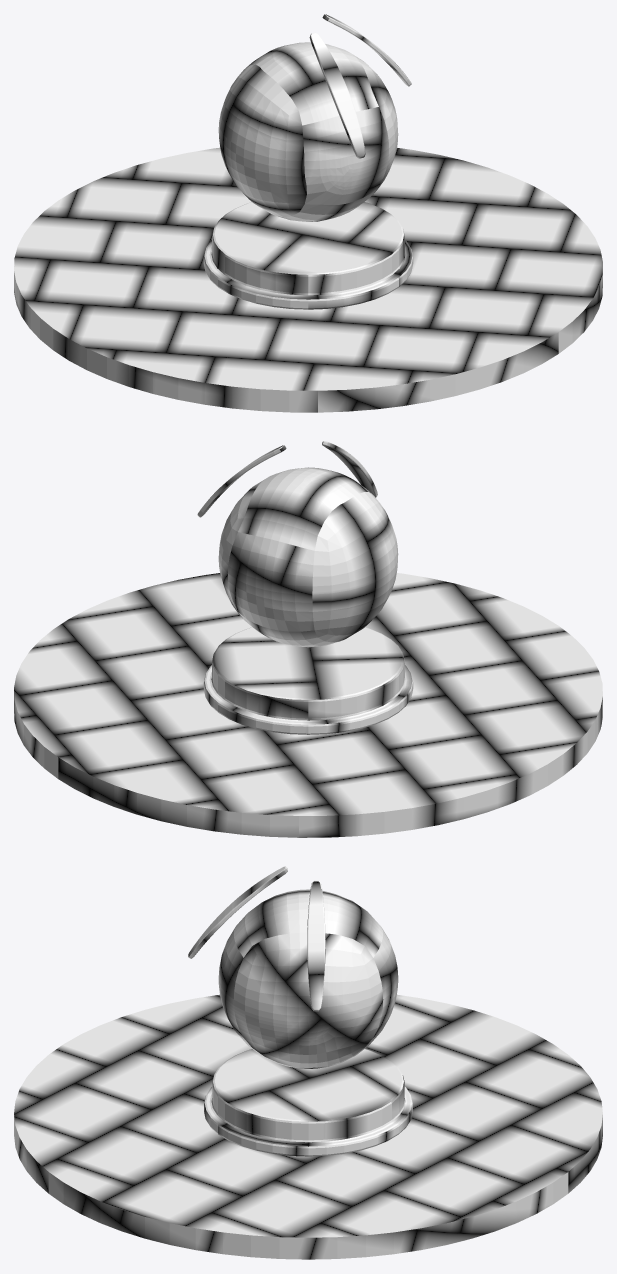
The model's file is neutral_objects.obj.
3 views of the same model, one above another, from view 1: azimuth 30°, elevation 25°; view 2: azimuth 150°, elevation 25°; view 3: azimuth 270°, elevation 25° (orthographic).
Visible parts, largest first — view 1: Group15349; view 2: Group15349; view 3: Group15349.
Boxes of the visible parts, <box> form: Group15349: <box>14,14,602,412</box>; Group15349: <box>14,441,602,837</box>; Group15349: <box>14,866,602,1259</box>.
Bounding box in the file's own units: 17.69 × 8.78 × 17.69.
Materials: 1 (1 with a texture image).
